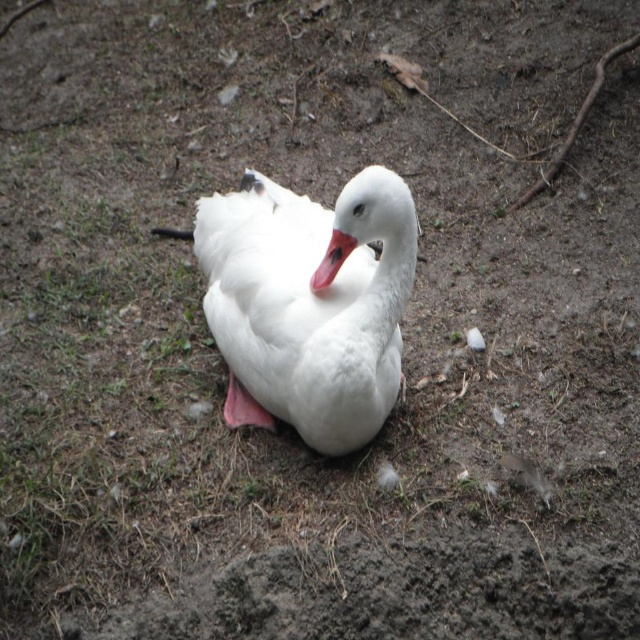Duck: (152, 164, 420, 458)
